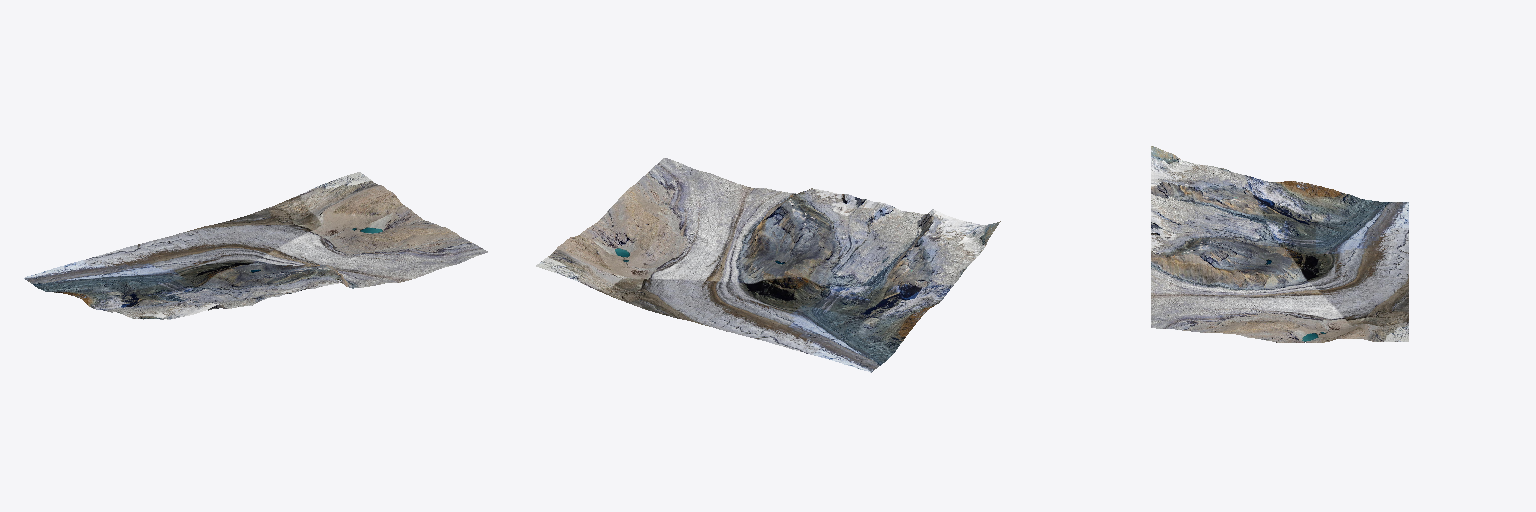
3 renders of one model, left to right at view 1: azimuth 30°, elevation 25°; view 2: azimuth 150°, elevation 25°; view 3: azimuth 270°, elevation 25°, orthographic.
Visible parts, largest first — view 1: EXPORT_GOOGLE_SAT_WM.014; view 2: EXPORT_GOOGLE_SAT_WM.014; view 3: EXPORT_GOOGLE_SAT_WM.014.
Boxes of the visible parts, x1=… form: EXPORT_GOOGLE_SAT_WM.014: x1=24, y1=172, x2=487, y2=319; EXPORT_GOOGLE_SAT_WM.014: x1=536, y1=158, x2=1000, y2=372; EXPORT_GOOGLE_SAT_WM.014: x1=1151, y1=146, x2=1408, y2=342.
Size of the model in its own units: 9124 by 1477 by 6083.
Materials: 1 (1 with a texture image).